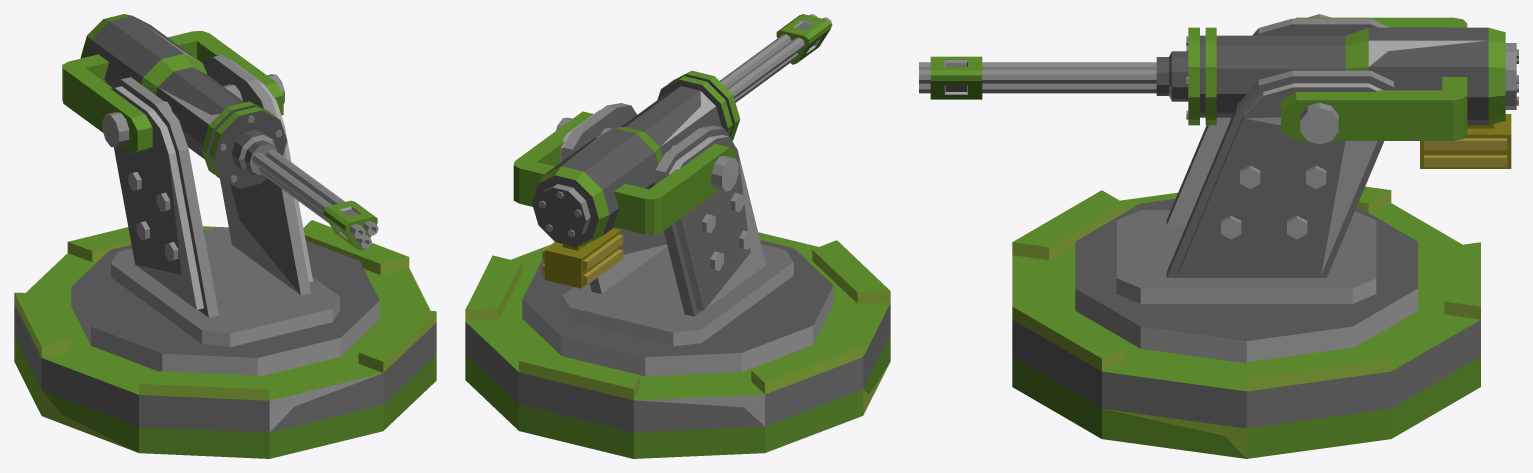
The model's file is tower_minigun_green_1.fbx.
3 renders of one model, left to right at view 1: azimuth 30°, elevation 25°; view 2: azimuth 150°, elevation 25°; view 3: azimuth 270°, elevation 25°, orthographic. The views are drawn at different scales.
Parts seen in each view (by area): view 1: top_minigun_green_1, tower_minigun_green_1; view 2: top_minigun_green_1, tower_minigun_green_1; view 3: top_minigun_green_1, tower_minigun_green_1.
Boxes of the visible parts, bbox=[...] form: top_minigun_green_1: bbox=[62, 14, 379, 375]; tower_minigun_green_1: bbox=[14, 220, 436, 458]; top_minigun_green_1: bbox=[513, 14, 833, 376]; tower_minigun_green_1: bbox=[465, 232, 890, 458]; top_minigun_green_1: bbox=[919, 14, 1518, 363]; tower_minigun_green_1: bbox=[1012, 186, 1480, 458].
Bounding box in the file's own units: 145 × 104 × 177.
